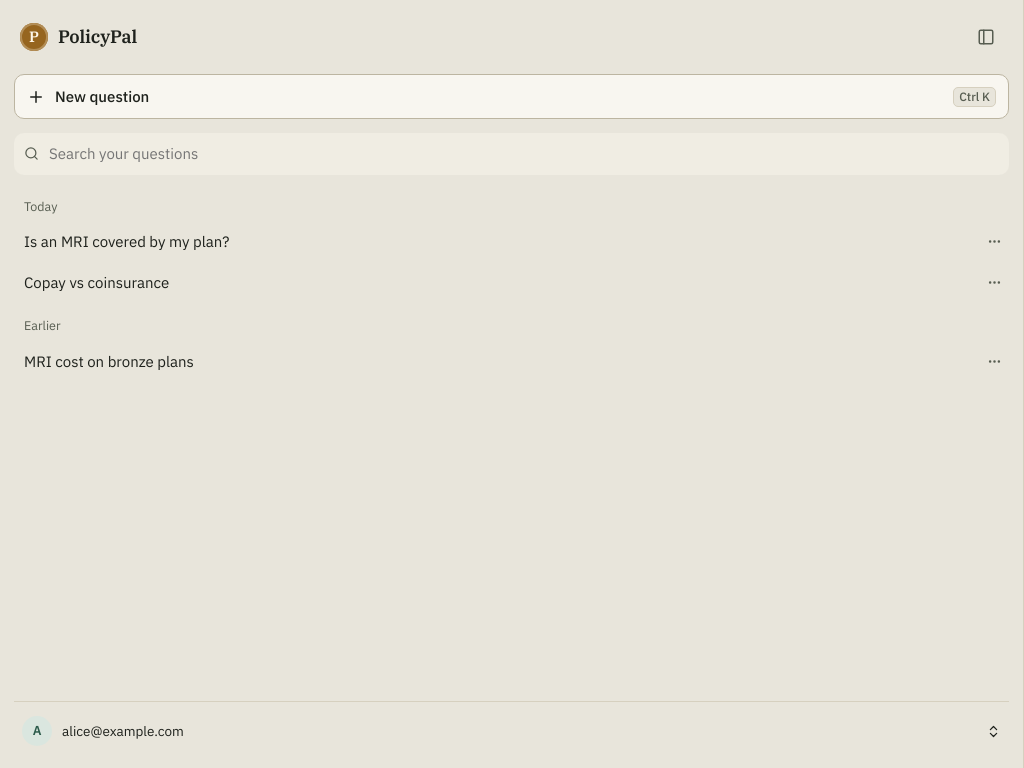
Test: Sidebar › filters by search, case-insensitively, and highlights the matches
This screenshot has width=1024, height=768.
In the search field labelled "Search your questions": (523, 154) [47,141,999,167], type "mri"
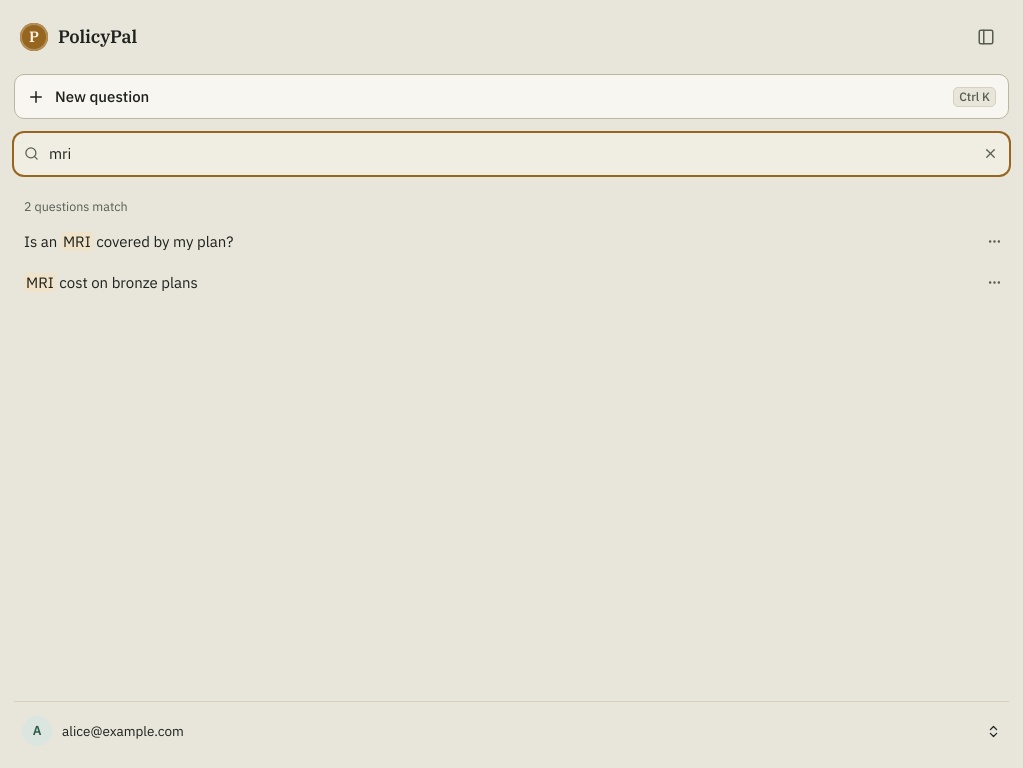
Expected: the heading "2 questions match" is shown, [24,198,128,214]
Expected: the button "Copay vs coinsurance" is gone
